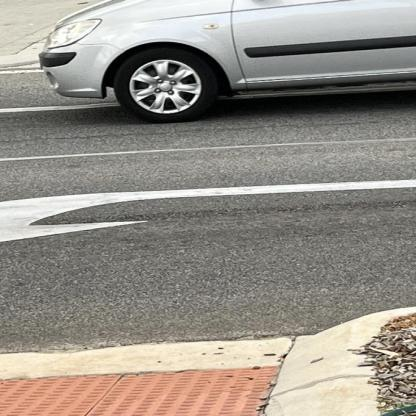Tire: (114, 50, 217, 124)
